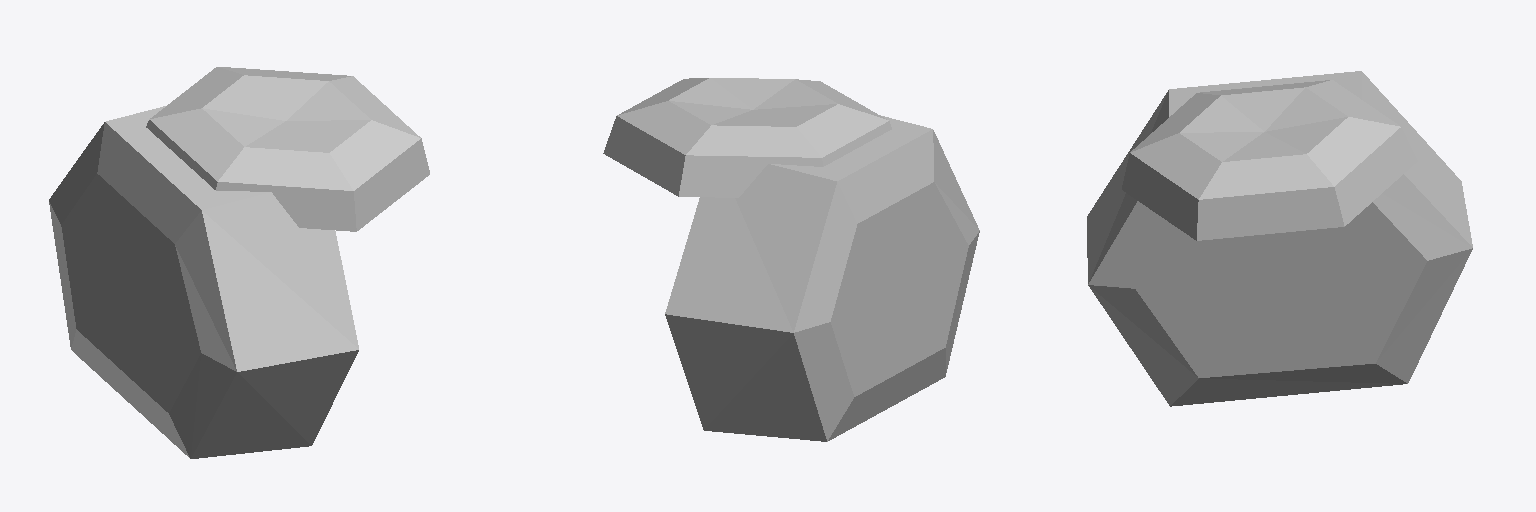
The model's file is wrist right.obj.
The picture shows the model from 3 angles: view 1: azimuth 30°, elevation 25°; view 2: azimuth 150°, elevation 25°; view 3: azimuth 270°, elevation 25°; orthographic projection.
Parts seen in each view (by area): view 1: model459.010; view 2: model459.010; view 3: model459.010.
Boxes of the visible parts, box(x1,y1,x2,y2) form: model459.010: box(49, 67, 429, 458); model459.010: box(603, 78, 979, 441); model459.010: box(1087, 71, 1472, 406).
Bounding box in the file's own units: 1.06 × 1.14 × 1.33.